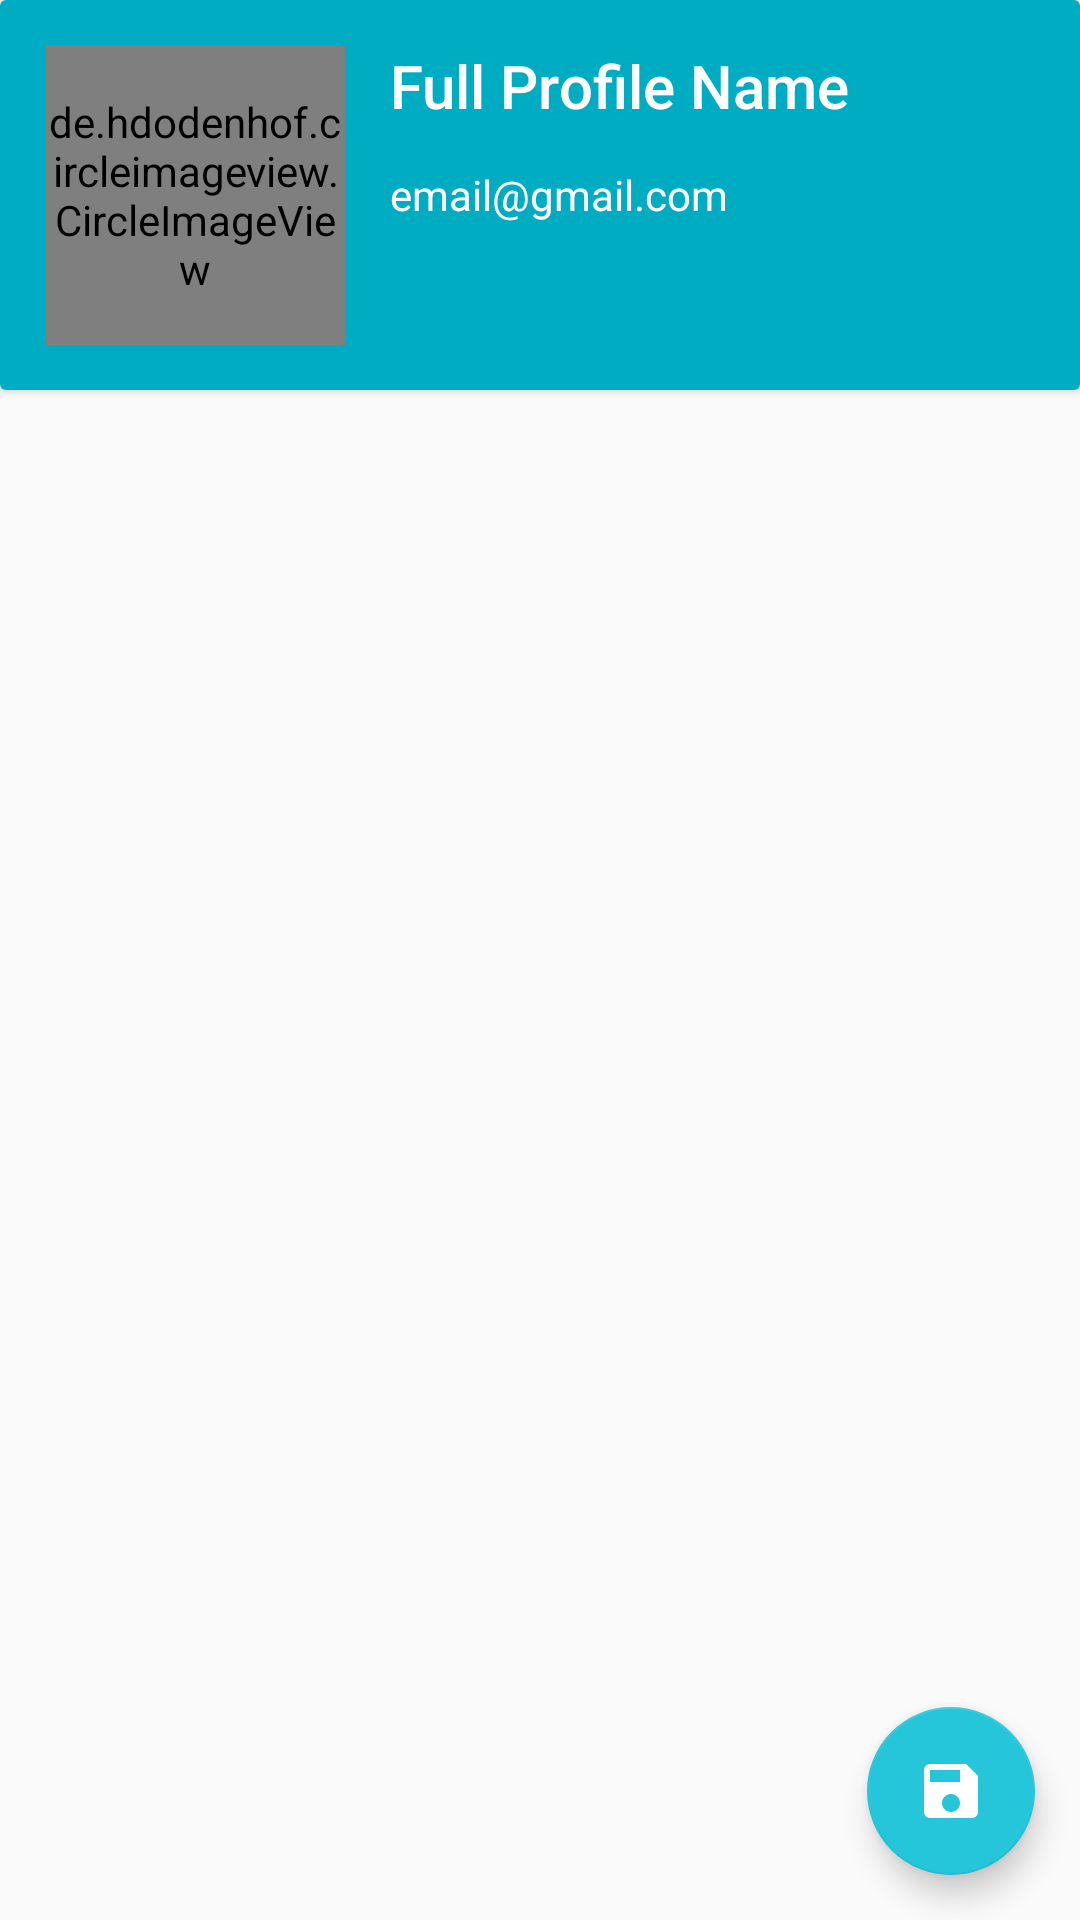

Named icons in this screenshot (1080 × 1920) and their centers, (x,y):
content save: (951,1791)
